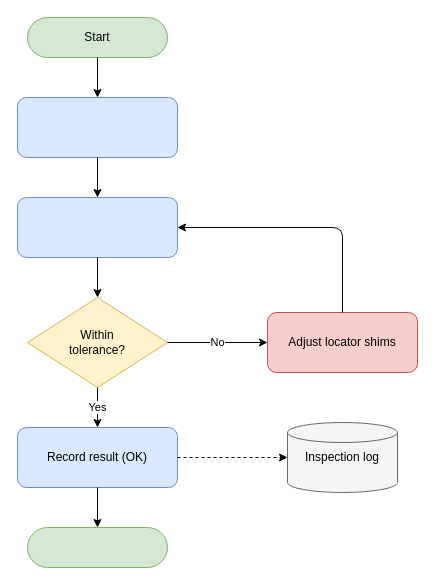
This 435x585 diagram has some shape labels left out. Each missing label, with the box of its shape:
Clamp & measure datum points: (16, 196, 178, 258)
End: (26, 526, 168, 568)
Load part into fixture: (16, 96, 178, 158)
